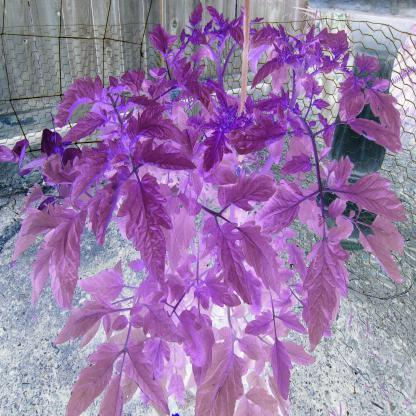Tomato leaf bacterial spot: (300, 241, 344, 364), (124, 178, 171, 279), (330, 163, 400, 230), (51, 194, 87, 314), (122, 341, 174, 416), (198, 336, 248, 414), (70, 338, 117, 416), (238, 216, 283, 297), (223, 108, 302, 154), (53, 70, 106, 134), (348, 112, 402, 169), (164, 192, 198, 280), (216, 172, 277, 221), (118, 107, 184, 152), (357, 224, 404, 286), (90, 165, 128, 240), (134, 140, 194, 186), (220, 229, 254, 310), (12, 203, 62, 258), (136, 300, 185, 356), (58, 297, 110, 349), (172, 304, 208, 372), (63, 106, 111, 154), (70, 137, 124, 179), (200, 275, 247, 320), (171, 61, 213, 110), (249, 52, 293, 98), (80, 266, 127, 304), (117, 87, 167, 122), (202, 126, 230, 179), (138, 152, 200, 172), (147, 24, 176, 62), (276, 152, 316, 177)
